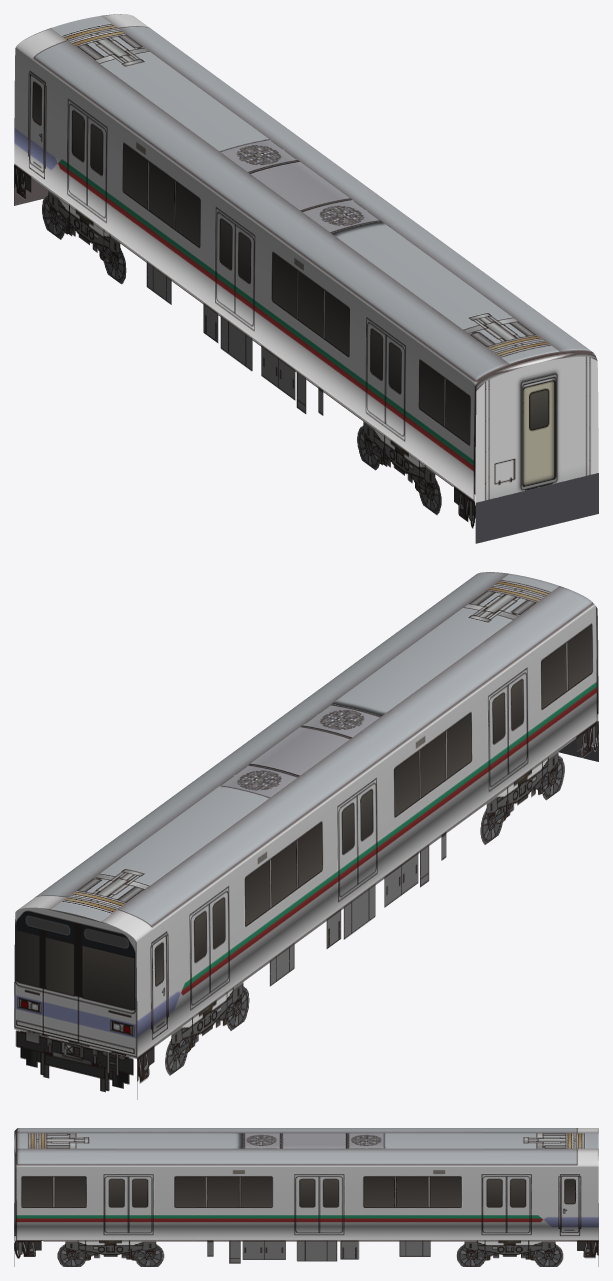
File: car2.glb
The picture shows the model from 3 angles, top to bottom: view 1: azimuth 30°, elevation 25°; view 2: azimuth 150°, elevation 25°; view 3: azimuth 270°, elevation 25°; orthographic projection. The views are drawn at different scales.
Visible parts, largest first — view 1: jomo-800-car2; view 2: jomo-800-car2; view 3: jomo-800-car2.
Part boxes in pixels (x1,y1,x2,y2): jomo-800-car2: [14, 14, 598, 543]; jomo-800-car2: [14, 572, 598, 1099]; jomo-800-car2: [14, 1128, 598, 1266].
Bounding box in the file's own units: 2.78 × 3.67 × 18.07.
Materials: 8 (7 with a texture image).
